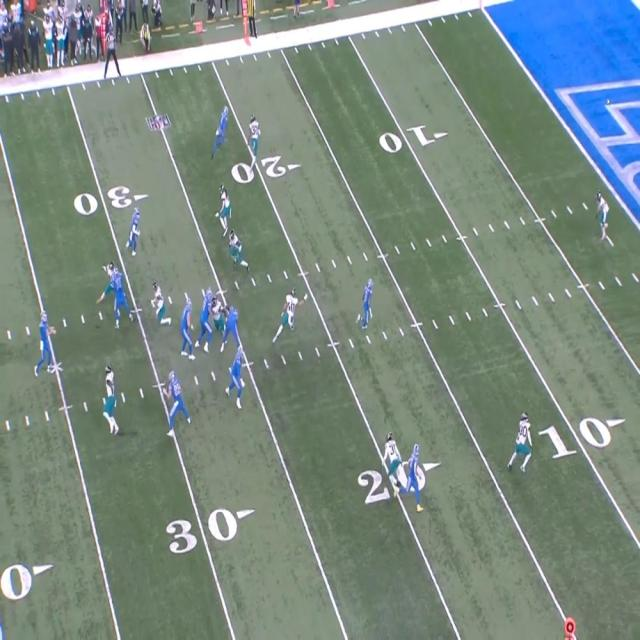db: (516, 413, 534, 461), (384, 433, 399, 475), (598, 192, 611, 238), (252, 115, 263, 155)
lb: (284, 290, 300, 330), (229, 234, 245, 272)
qb: (39, 310, 56, 372)
skill: (407, 440, 422, 507), (170, 367, 184, 431), (361, 278, 375, 324), (129, 208, 142, 255), (216, 107, 228, 152), (220, 187, 233, 220)
